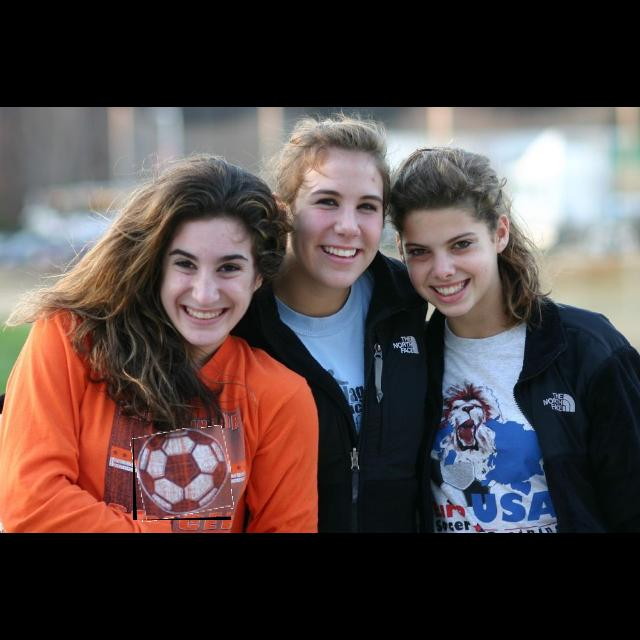Football: (133, 428, 231, 520)
